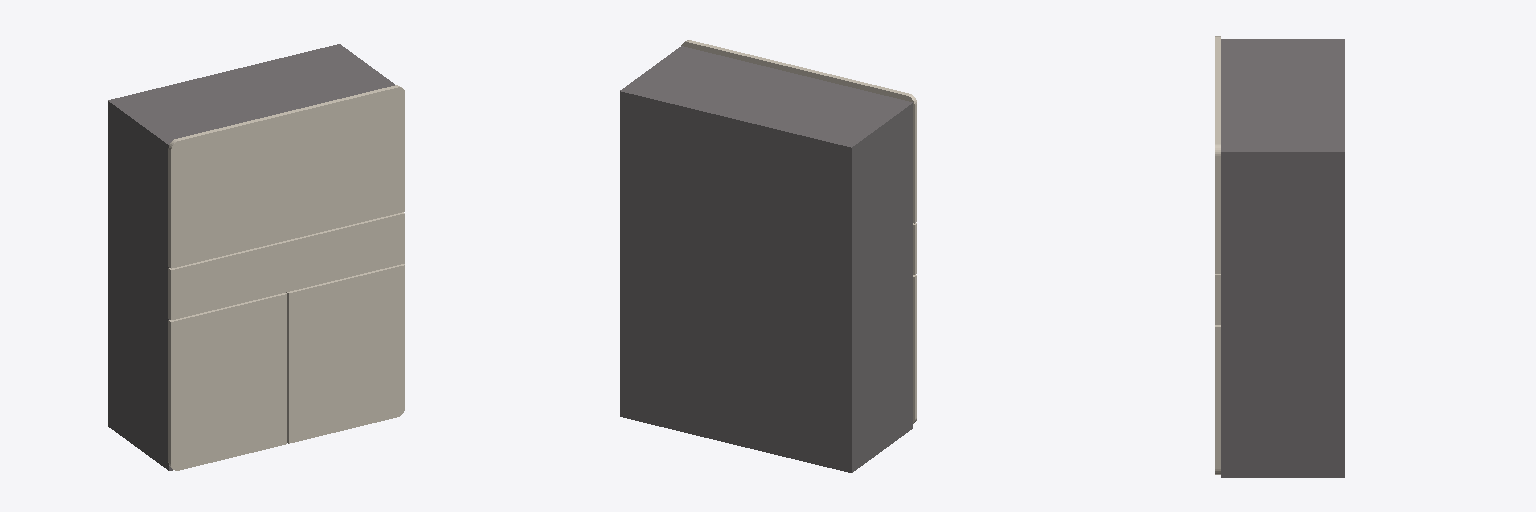
The model's file is 2pir_barek.obj.
3 views of the same model, side by side, from view 1: azimuth 30°, elevation 25°; view 2: azimuth 150°, elevation 25°; view 3: azimuth 270°, elevation 25° (orthographic).
Visible parts, largest first — view 1: Rectangle10, Rectangle11; view 2: Rectangle11, Rectangle10; view 3: Rectangle11, Rectangle10.
Boxes of the visible parts, <box> form: Rectangle10: <box>168,85,404,470</box>; Rectangle11: <box>108,44,394,470</box>; Rectangle11: <box>620,46,912,472</box>; Rectangle10: <box>681,40,916,423</box>; Rectangle11: <box>1221,39,1344,477</box>; Rectangle10: <box>1215,36,1220,474</box>.
Bounding box in the file's own units: 96.88 × 131 × 46.3.